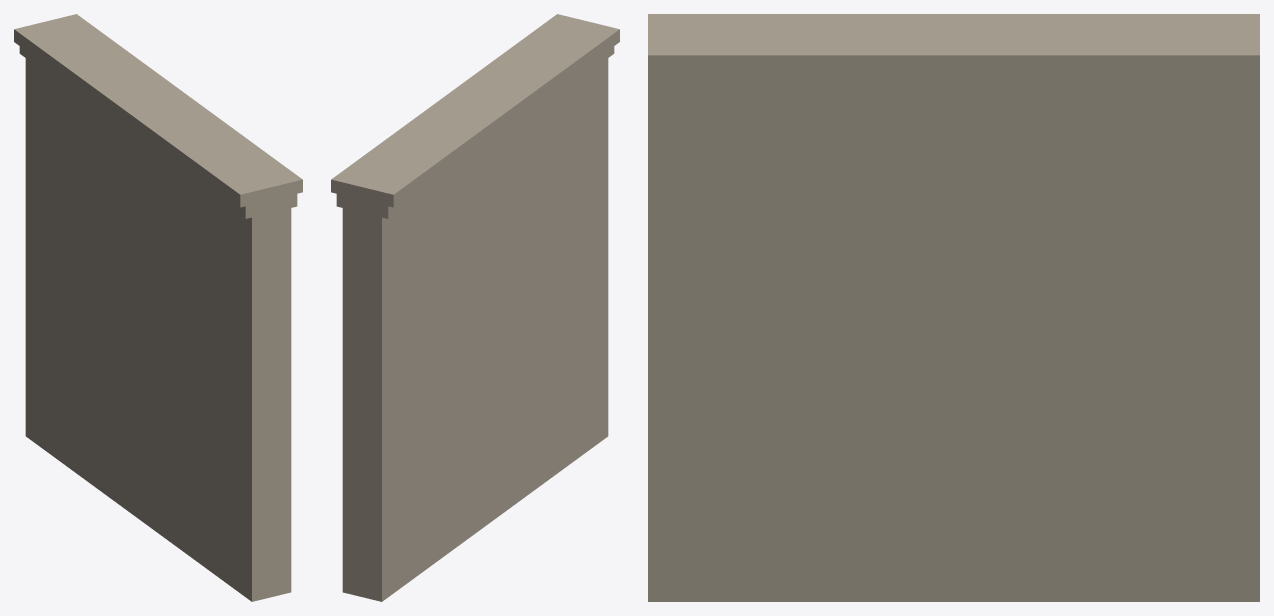
File: Village_Wall_2m_Plaster_Roof.fbx
3 views of the same model, side by side, from view 1: azimuth 30°, elevation 25°; view 2: azimuth 150°, elevation 25°; view 3: azimuth 270°, elevation 25° (orthographic). The views are drawn at different scales.
Parts seen in each view (by area): view 1: Village_Wall_2m_Roof_A.280; view 2: Village_Wall_2m_Roof_A.280; view 3: Village_Wall_2m_Roof_A.280.
Part boxes in pixels (x1=…): Village_Wall_2m_Roof_A.280: x1=14, y1=14, x2=302, y2=601; Village_Wall_2m_Roof_A.280: x1=331, y1=14, x2=619, y2=601; Village_Wall_2m_Roof_A.280: x1=648, y1=14, x2=1259, y2=601.
Bounding box in the file's own units: 31.91 × 200 × 200.
